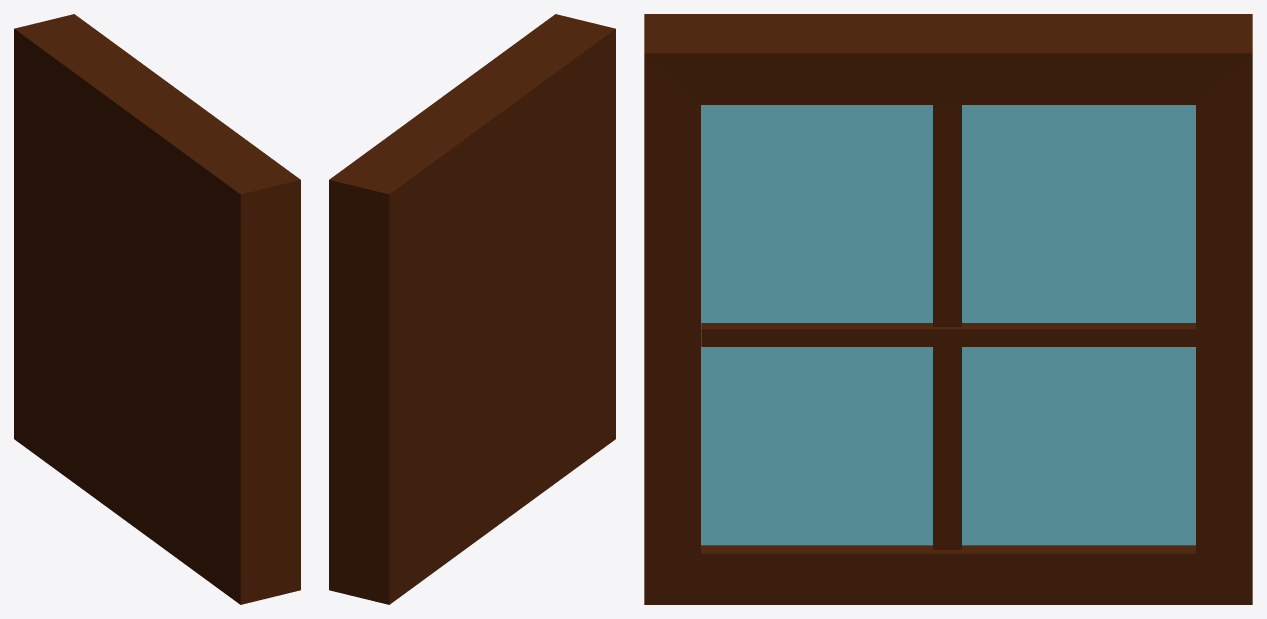
File: Window.fbx
3 renders of one model, left to right at view 1: azimuth 30°, elevation 25°; view 2: azimuth 150°, elevation 25°; view 3: azimuth 270°, elevation 25°, orthographic. The views are drawn at different scales.
Parts seen in each view (by area): view 1: Windopw; view 2: Windopw; view 3: Windopw.
Part boxes in pixels (bbox=[...]): Windopw: bbox=[14, 14, 300, 604]; Windopw: bbox=[329, 14, 615, 604]; Windopw: bbox=[644, 14, 1252, 604].
Bounding box in the file's own units: 38.76 × 252 × 252.
